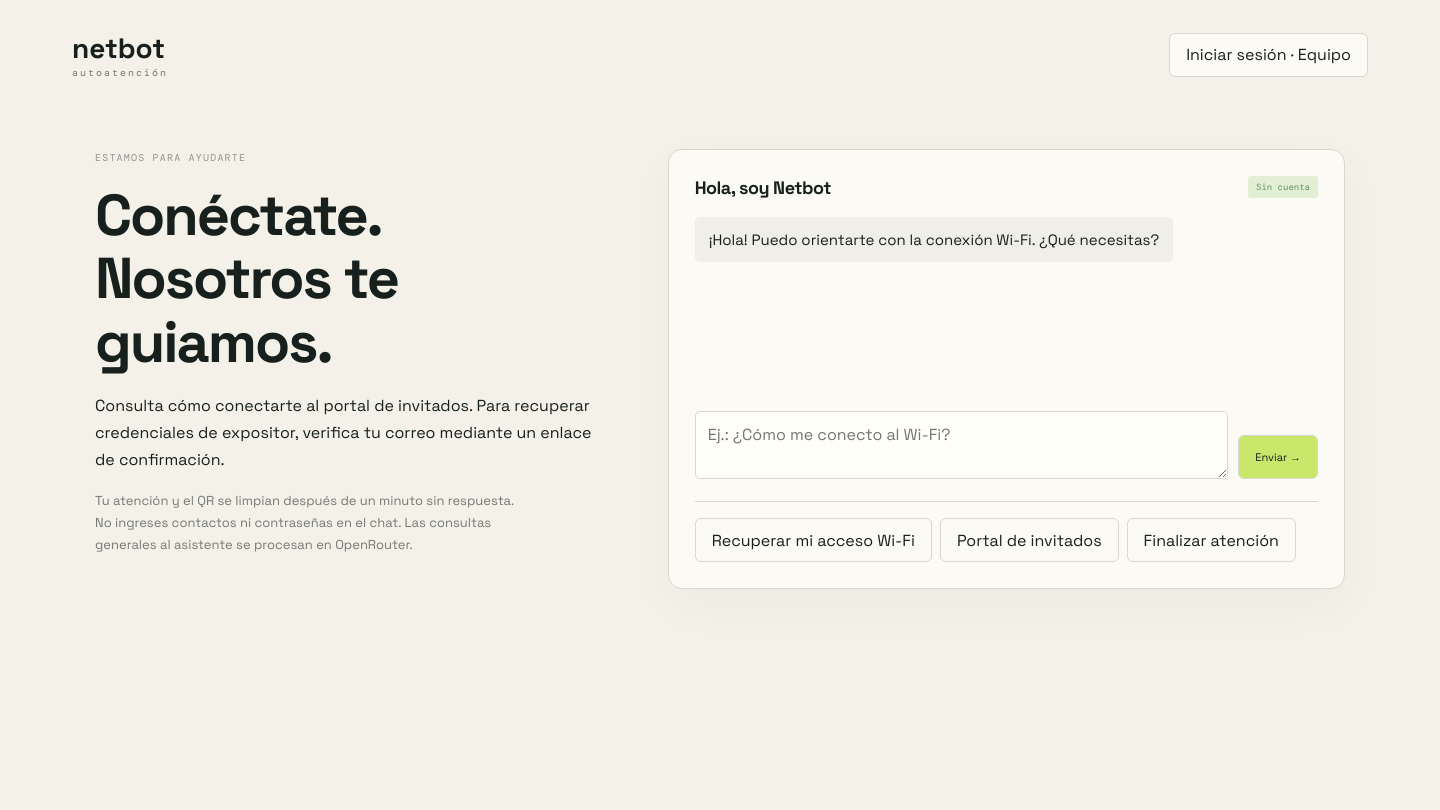
React application with the real feature controllers › keeps technician deep links scoped and never requests global metrics
The image size is (1440, 810).
Later steps or results of the test are not shown.
Step 1. Click the button "Iniciar sesión · Equipo" → (1269, 54), box [1169, 32, 1368, 76]
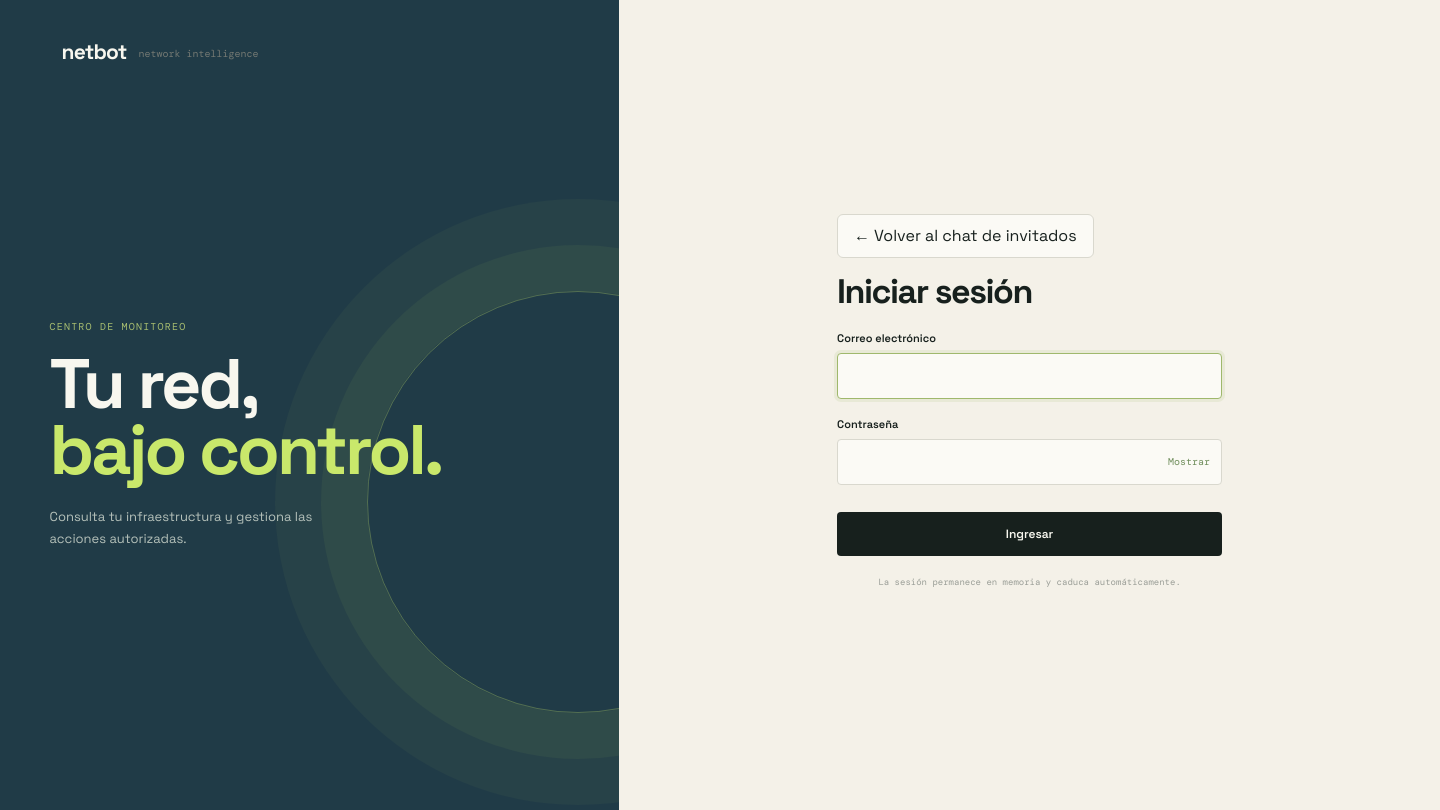
Step 2. Type "cliente@example.test" into the field labelled "Correo electrónico" → (1030, 376), box [837, 352, 1222, 398]
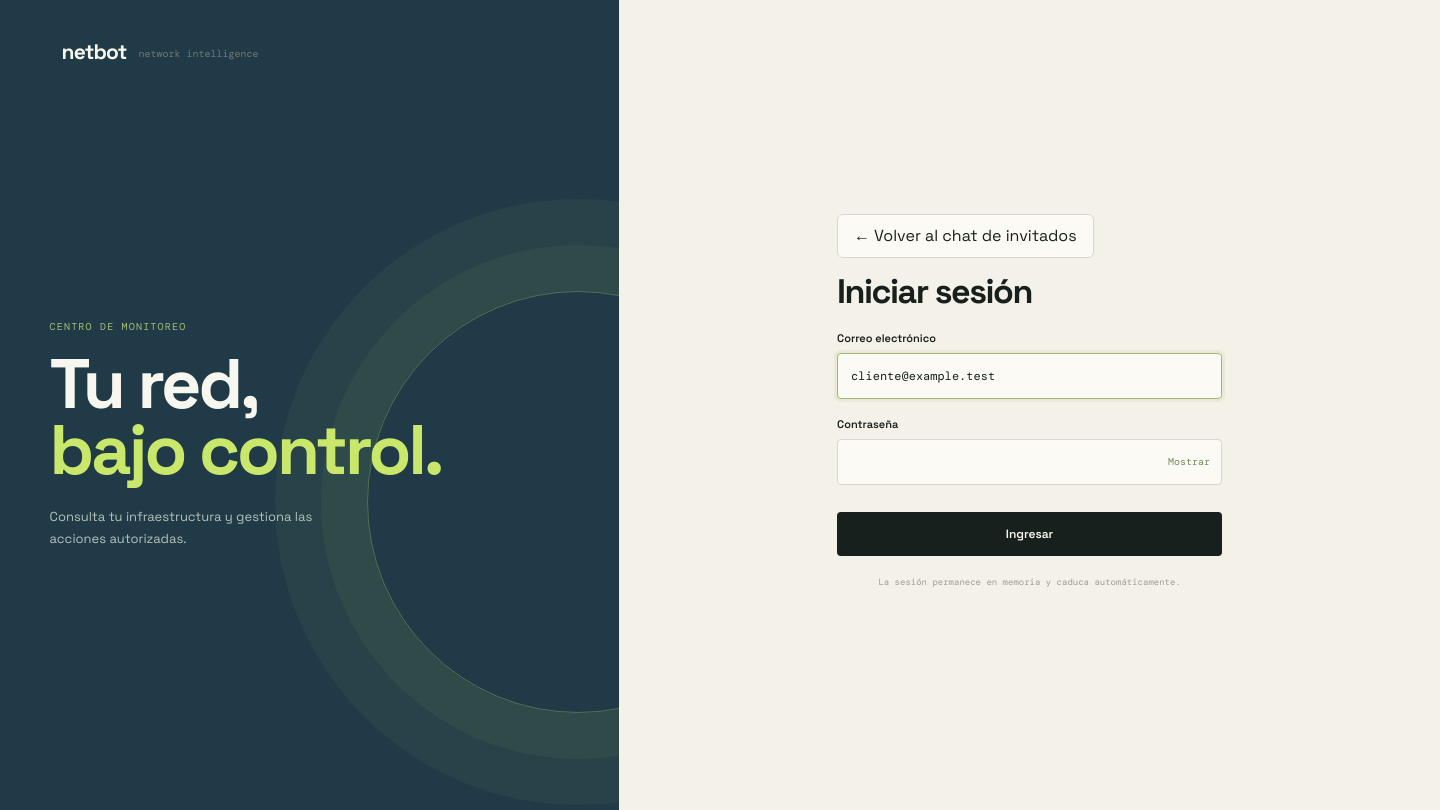
Step 3. Type "synthetic-password" into the password field labelled "Contraseña" → (1030, 462), box [837, 438, 1222, 484]
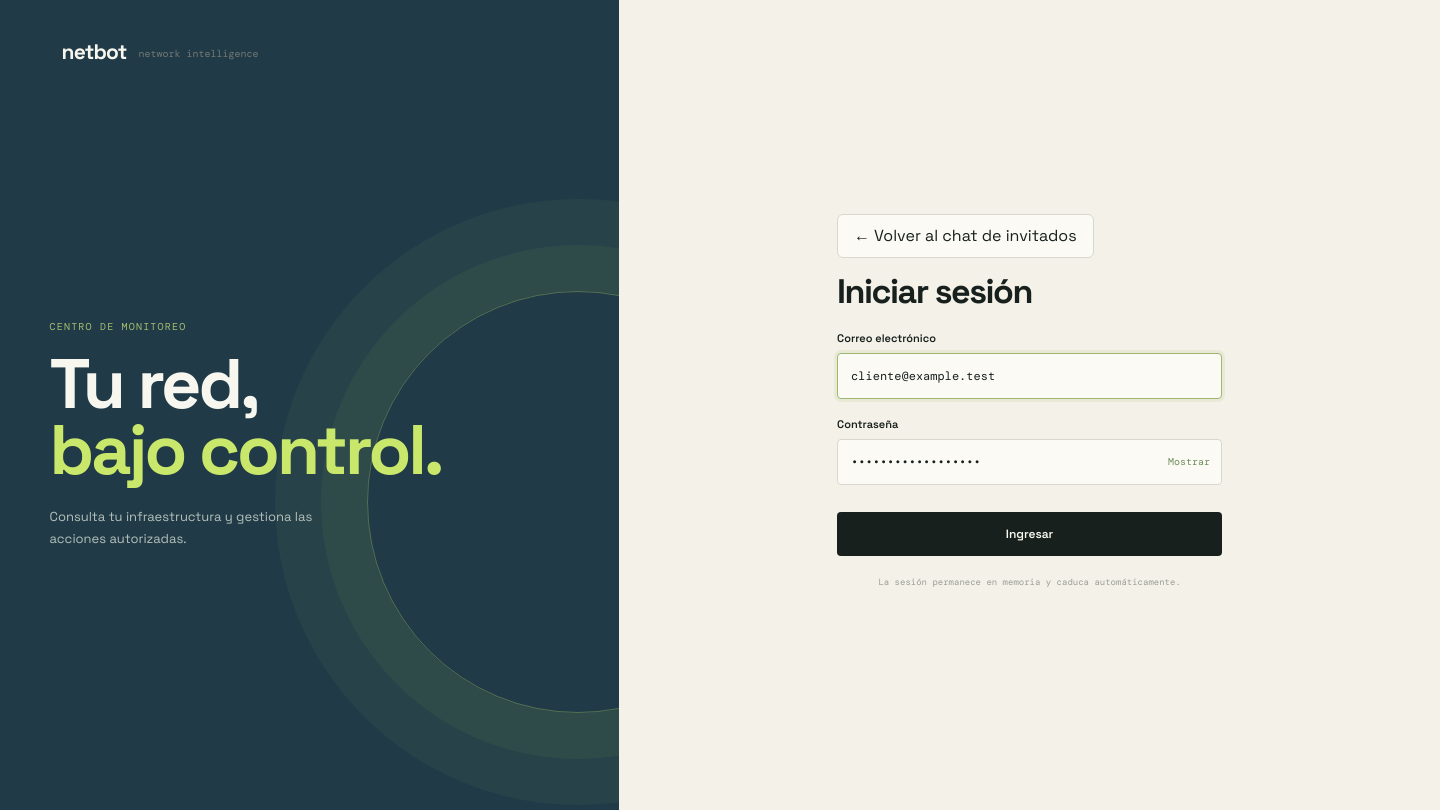
Step 4. Click the button "Ingresar" → (1030, 534), box [837, 512, 1222, 556]
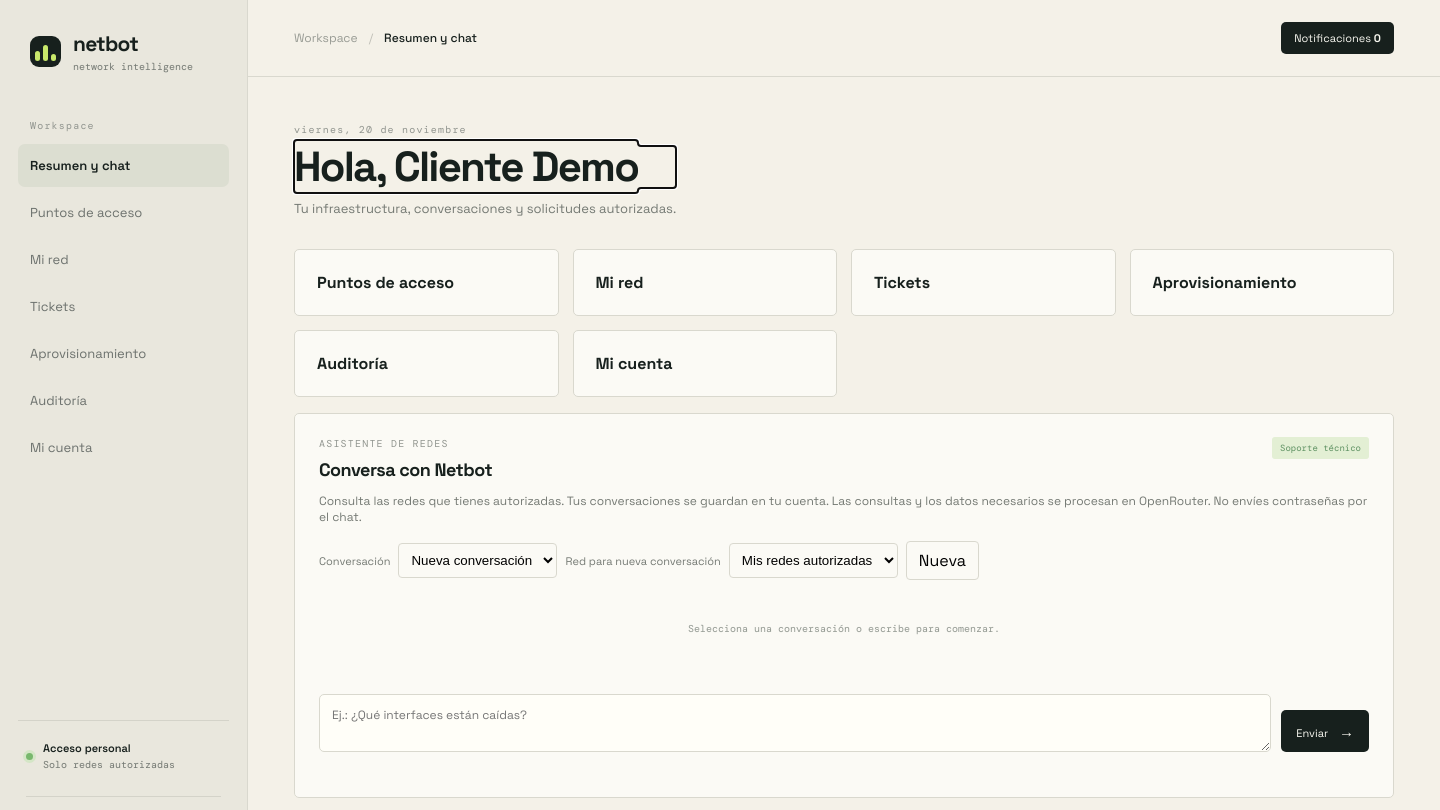
Now the link "Puntos de acceso" below "network intelligence" is shown, box [30, 204, 142, 221]
